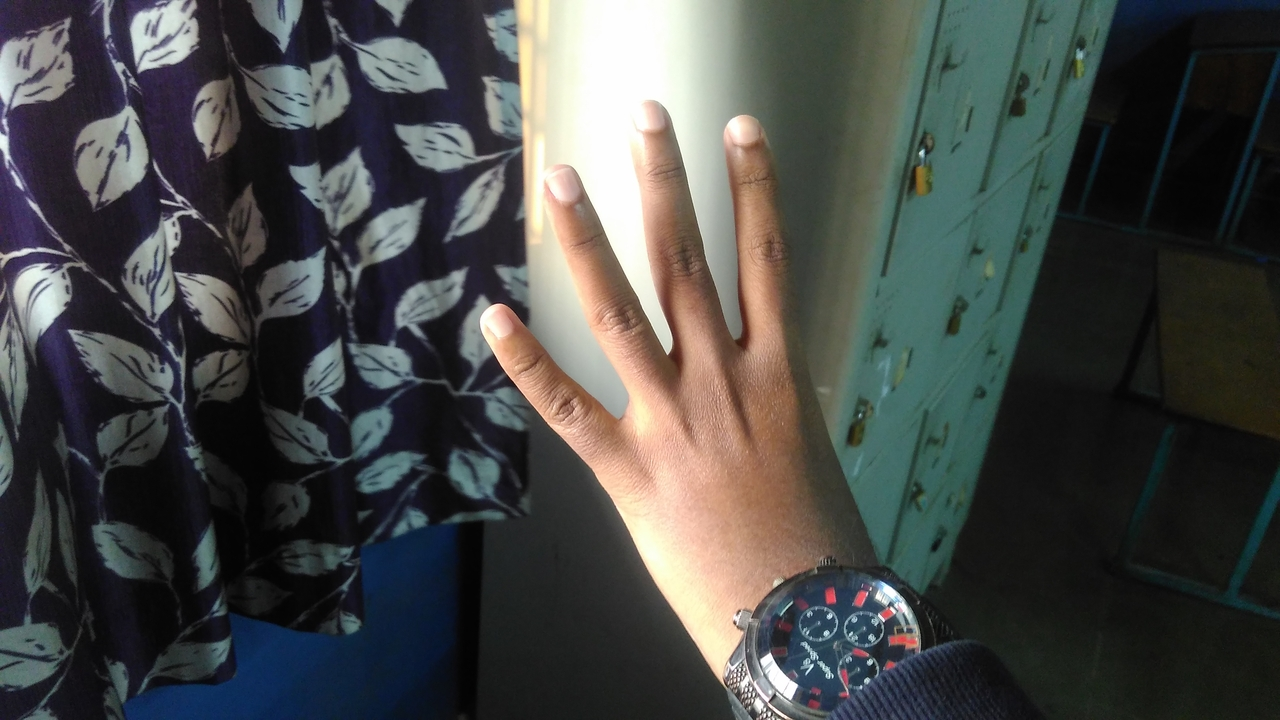fingertip: (466, 292, 530, 358), (622, 90, 686, 150), (536, 158, 590, 218), (714, 110, 774, 162)
